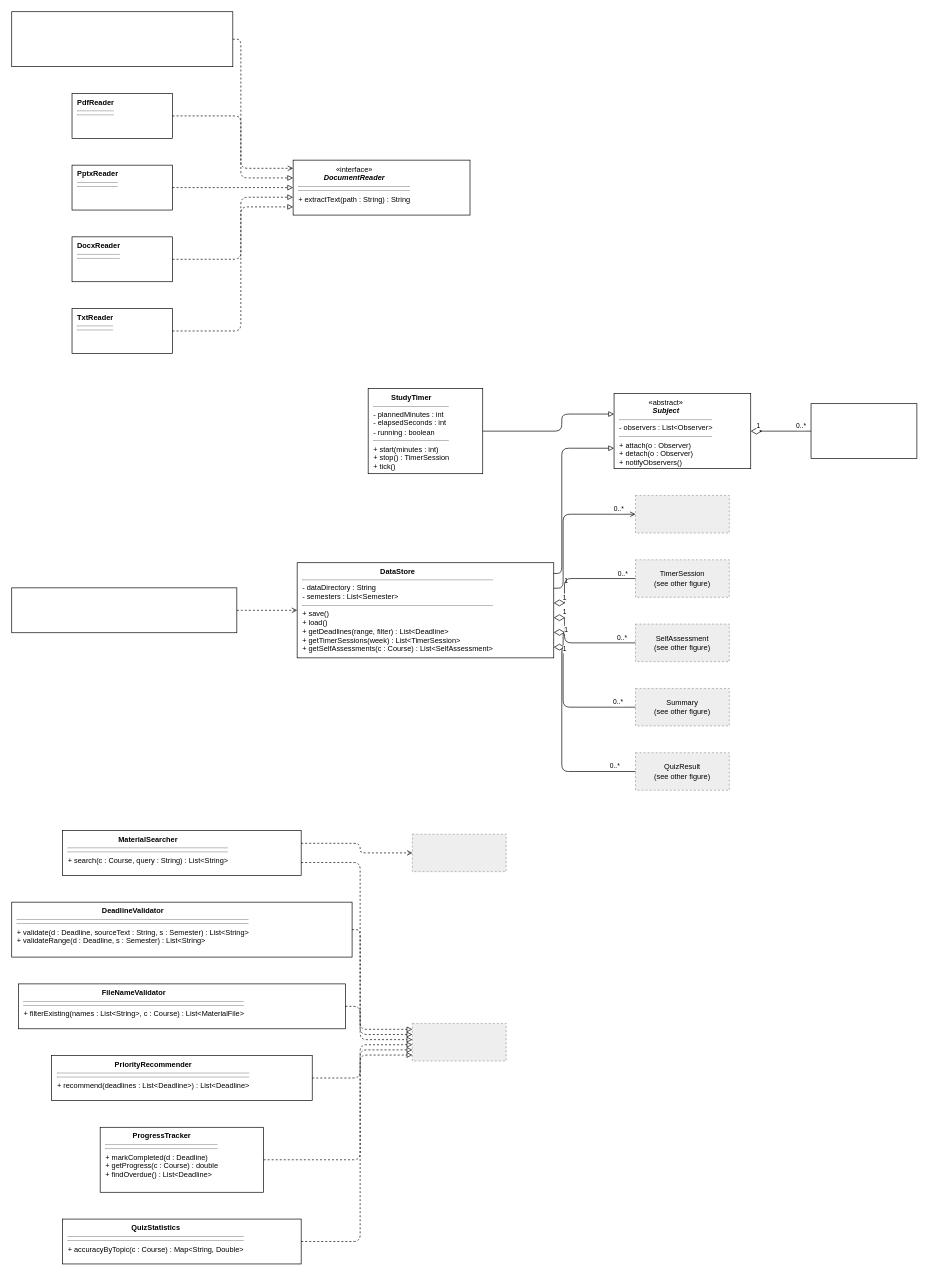
Image size: 929x1276. Some labels were removed from this diagram. Here are the shapes that lost their labels. From the top down, the centre of each, then its label:
point (122, 39): «Factory» DocumentReaderFactory + getReader(fileName : String) : DocumentReader
point (863, 431): «interface» Observer + update(s : Subject)
point (682, 514): Semester (see other figure)
point (124, 610): NotificationService + checkDue(now : LocalDateTime) : List<Deadline>
point (459, 852): «interface» WorkspaceNode (see other figure)
point (459, 1042): «interface» Tool (see other figure)
